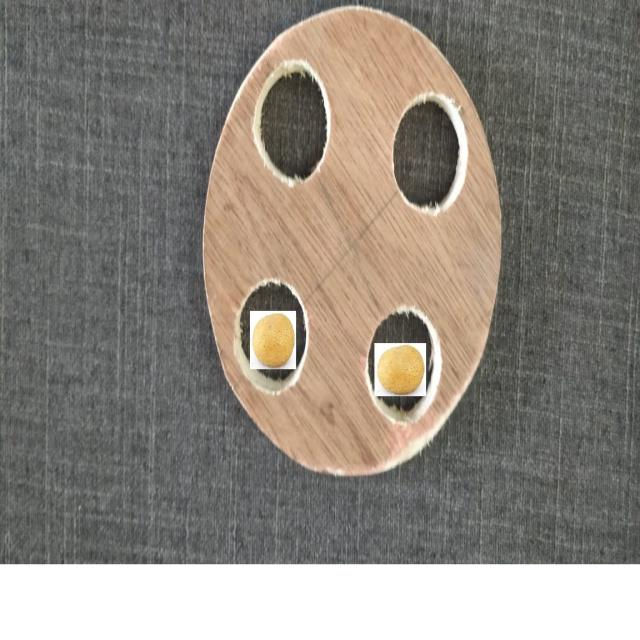potato: (251, 312, 296, 366), (378, 348, 423, 396)
